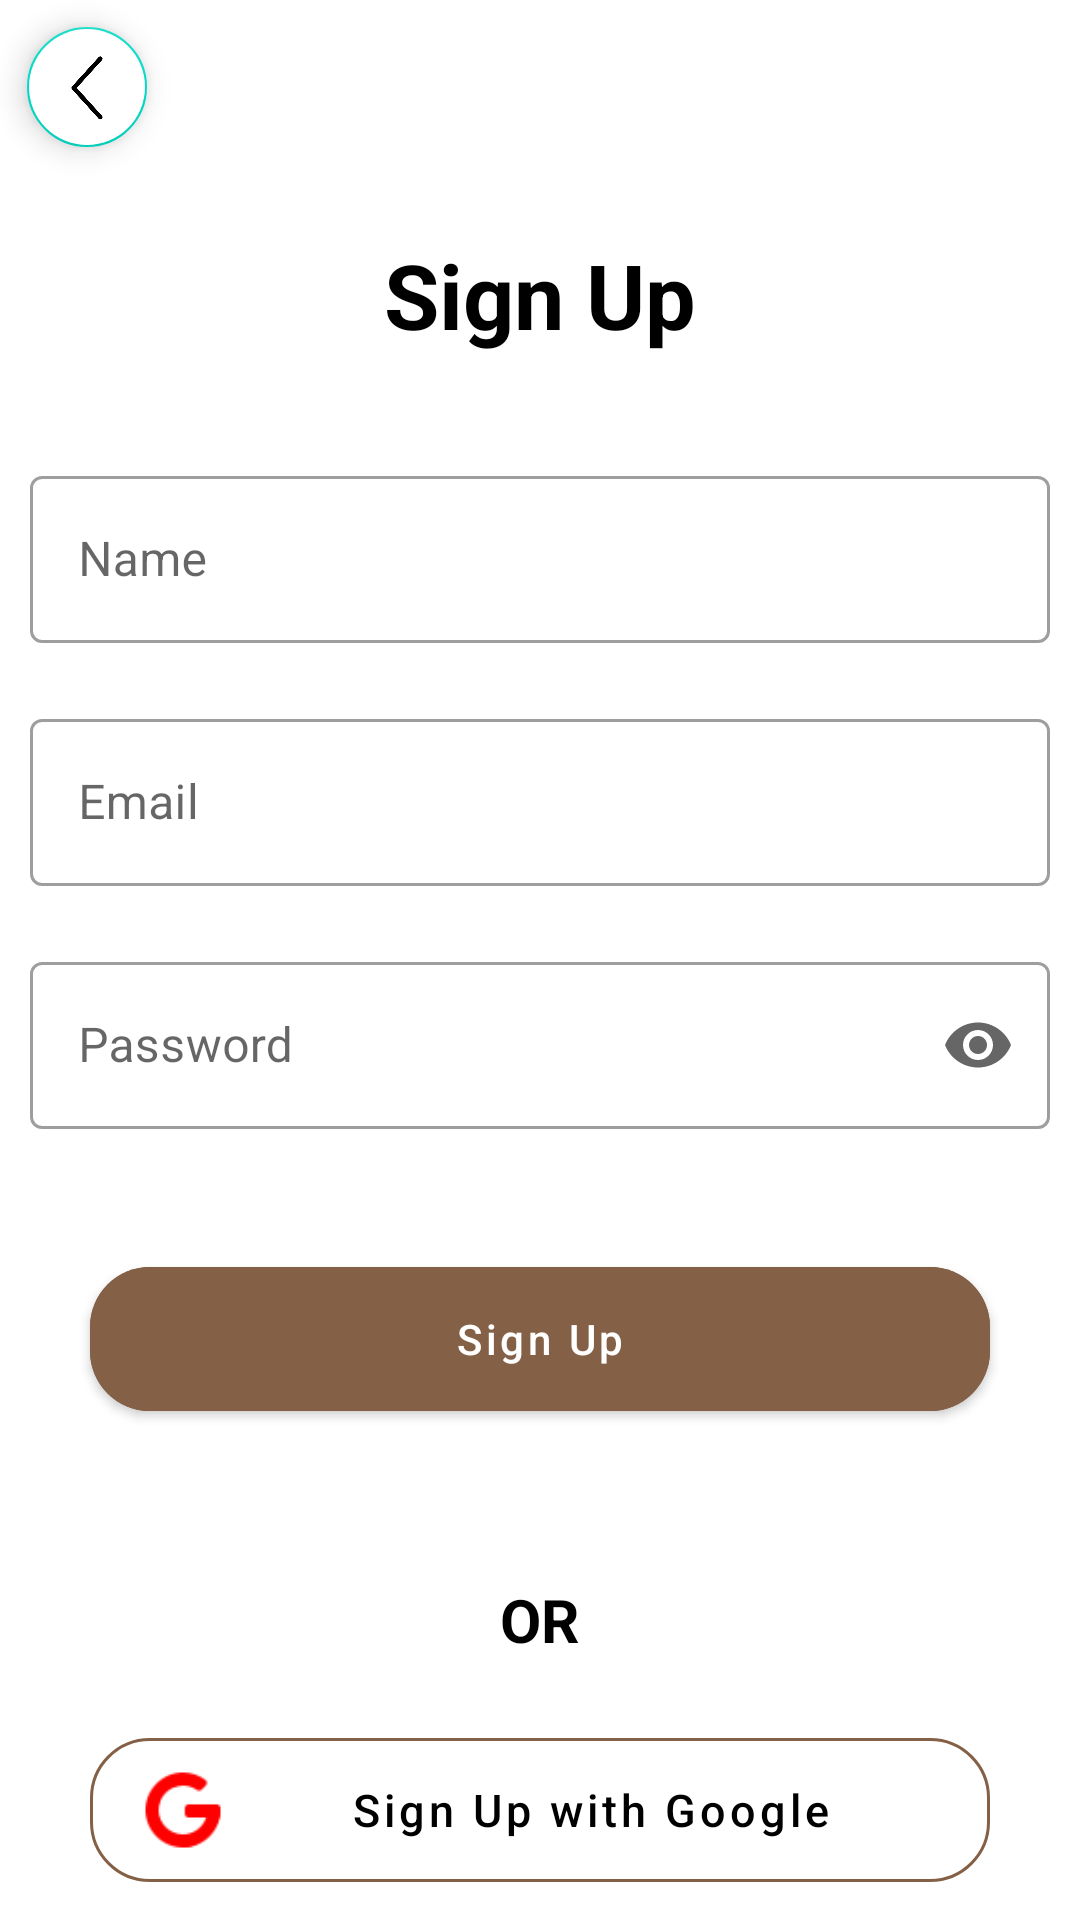

Where to tap for icons on this 1080×1920 app screen, as point (x, y):
back: point (86, 87)
